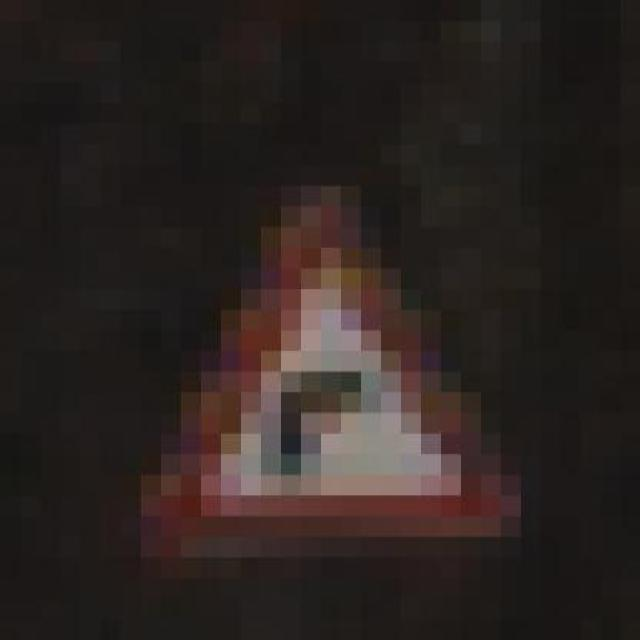Dangerous Rright Curve Ahead: (78, 171, 558, 563)
